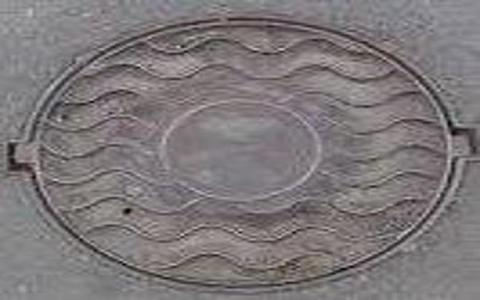proper manhole: (4, 10, 465, 293)
